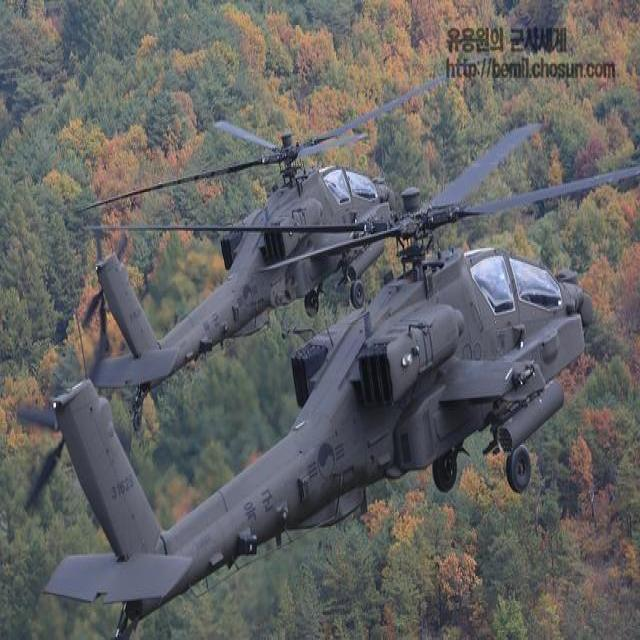MIL_HELO: (7, 117, 640, 640), (74, 57, 444, 425)
